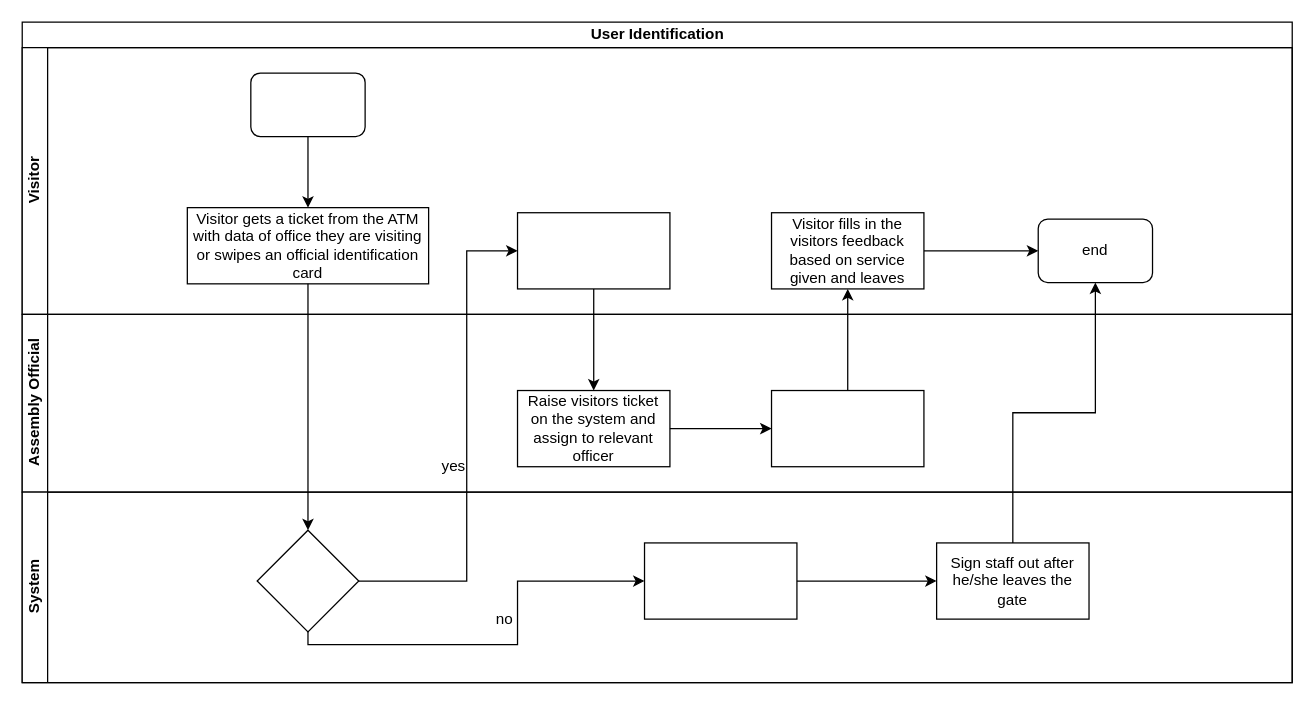
Some shapes in this 1314 by 705 pixel diagram are drawn without their labels. Each missing label, with the centre of its shape:
"Is Visitor?" belongs at [307,580].
"Proceed to office being visited" belongs at [593,250].
"Request is actioned and feedback shared with the visitor" belongs at [847,428].
"Staff proceeds to his/her station" belongs at [720,580].
"Start" belongs at [307,104].
